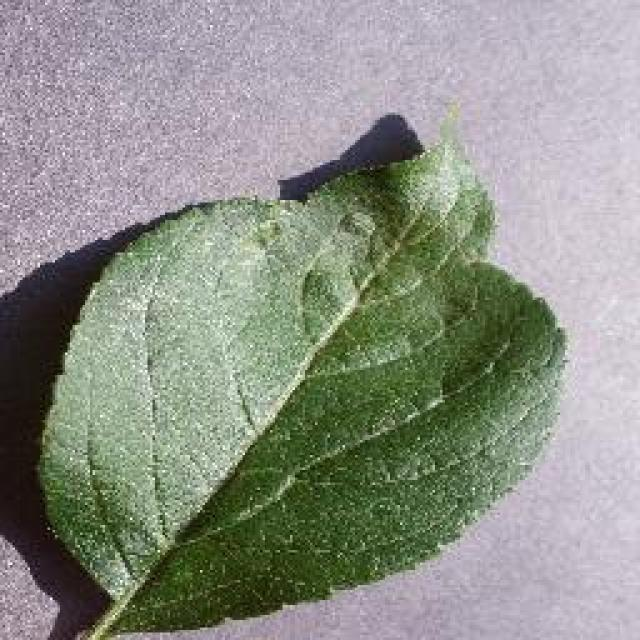apple healthy: (32, 102, 570, 638)
